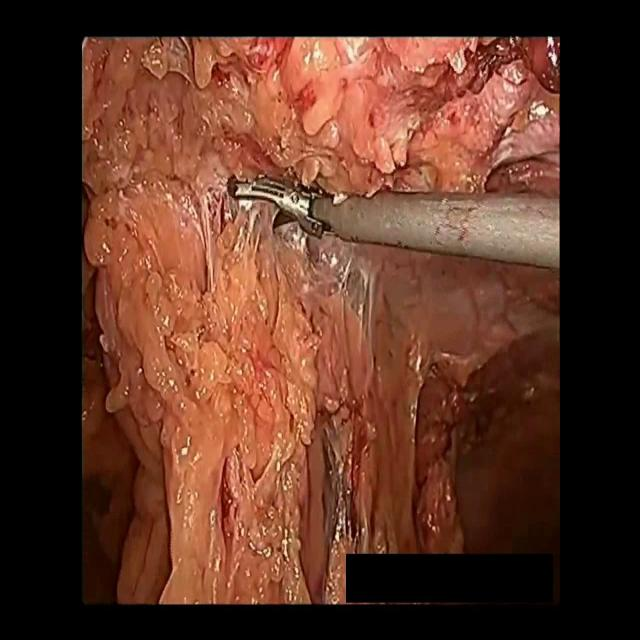surgical-area: (79, 33, 562, 604)
surgical-tool: (229, 178, 559, 276)
